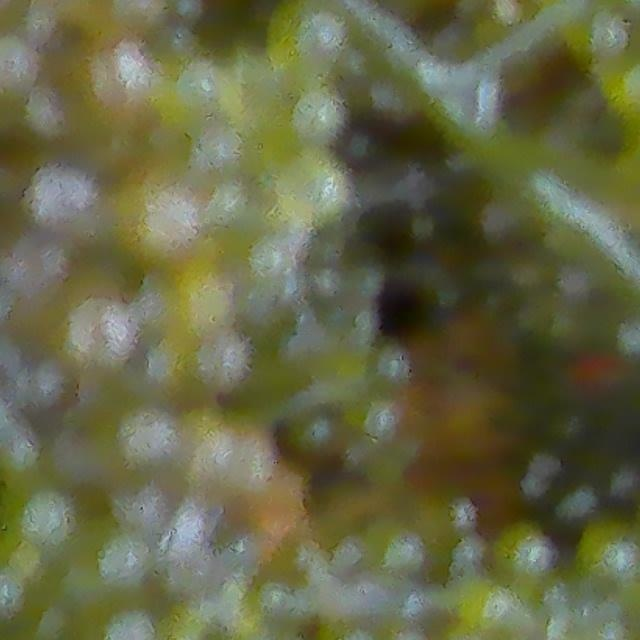SeaGrape: (496, 525, 552, 580), (15, 488, 68, 544)
